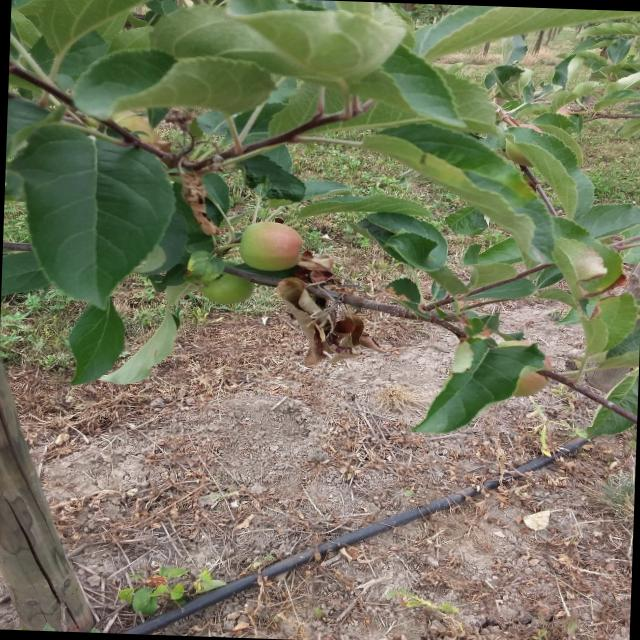-FireBlight-: (275, 246, 372, 352), (178, 165, 236, 258)
